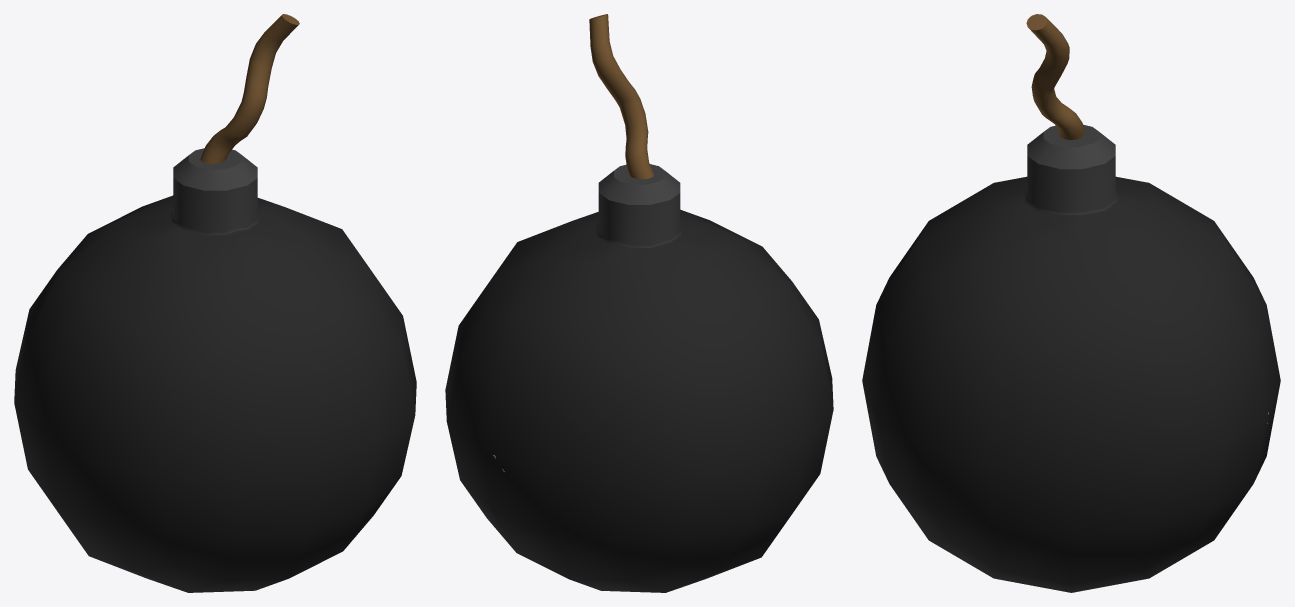
The model's file is BombModel.gltf.
3 renders of one model, left to right at view 1: azimuth 30°, elevation 25°; view 2: azimuth 150°, elevation 25°; view 3: azimuth 270°, elevation 25°, orthographic. The views are drawn at different scales.
Parts seen in each view (by area): view 1: BombModel; view 2: BombModel; view 3: BombModel.
Boxes of the visible parts, x1,y1,x2,y2 form: BombModel: (14,14,416,592); BombModel: (445,14,833,592); BombModel: (862,14,1280,592).
Size of the model in its own units: 1.05 by 1.62 by 1.05.
Materials: 1 (1 with a texture image).
